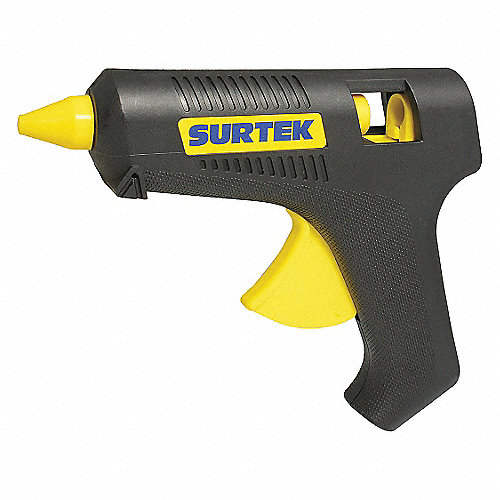Arma Falsa: (19, 63, 489, 432)
